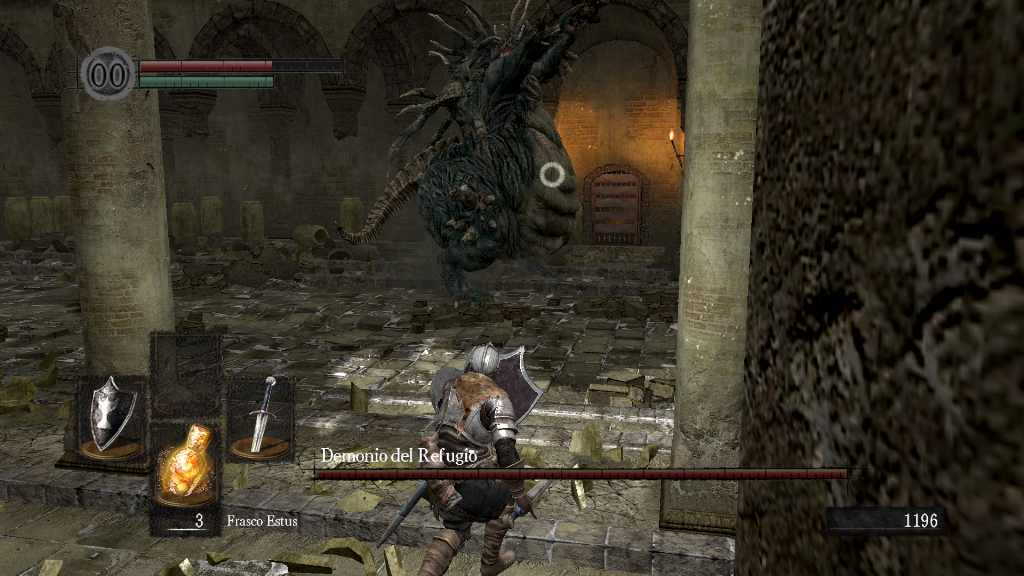asylumDemon: (333, 3, 598, 306)
bossHP: (314, 469, 847, 479)
health: (138, 58, 343, 71)
humanity: (80, 45, 136, 102)
player: (416, 341, 570, 576)
souls: (825, 506, 945, 536)
stamina: (138, 74, 274, 88)
